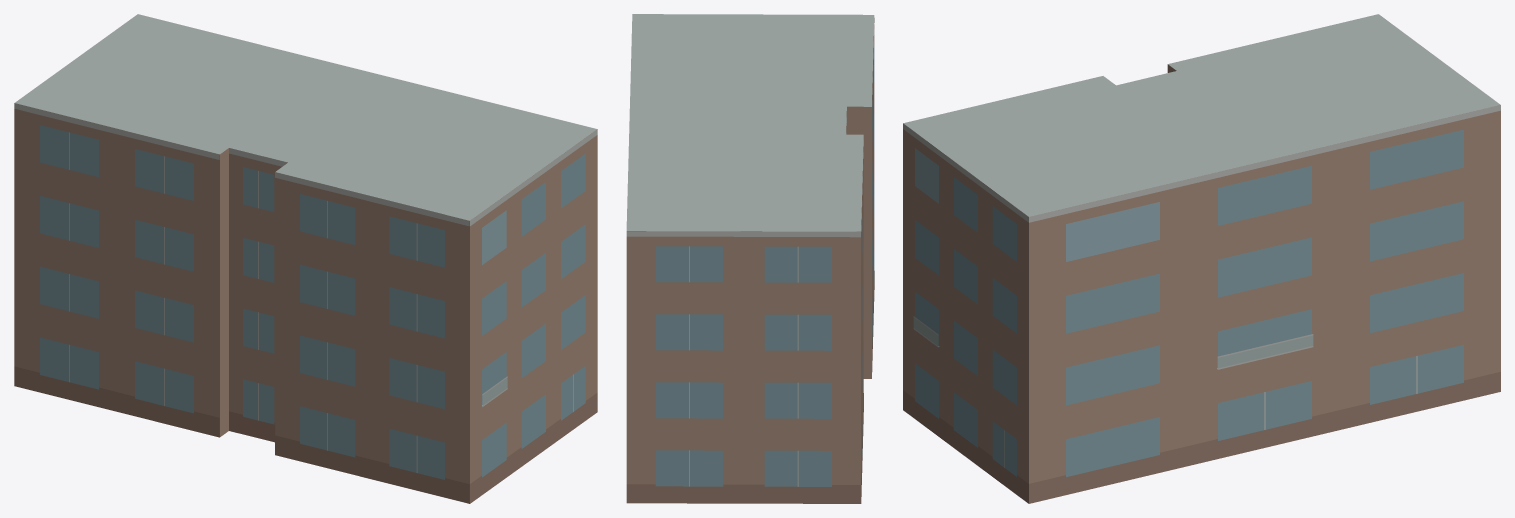
The model's file is survey-upis-32822667.glb.
3 views of the same model, side by side, from view 1: azimuth 30°, elevation 25°; view 2: azimuth 150°, elevation 25°; view 3: azimuth 270°, elevation 25° (orthographic). The views are drawn at different scales.
Visible parts, largest first — view 1: survey-upis-32822667.tmp; view 2: survey-upis-32822667.tmp; view 3: survey-upis-32822667.tmp.
Boxes of the visible parts, x1,y1,x2,y2 form: survey-upis-32822667.tmp: [14, 14, 597, 503]; survey-upis-32822667.tmp: [626, 14, 874, 503]; survey-upis-32822667.tmp: [903, 14, 1500, 503].
Bounding box in the file's own units: 18.53 × 12.2 × 23.05.
